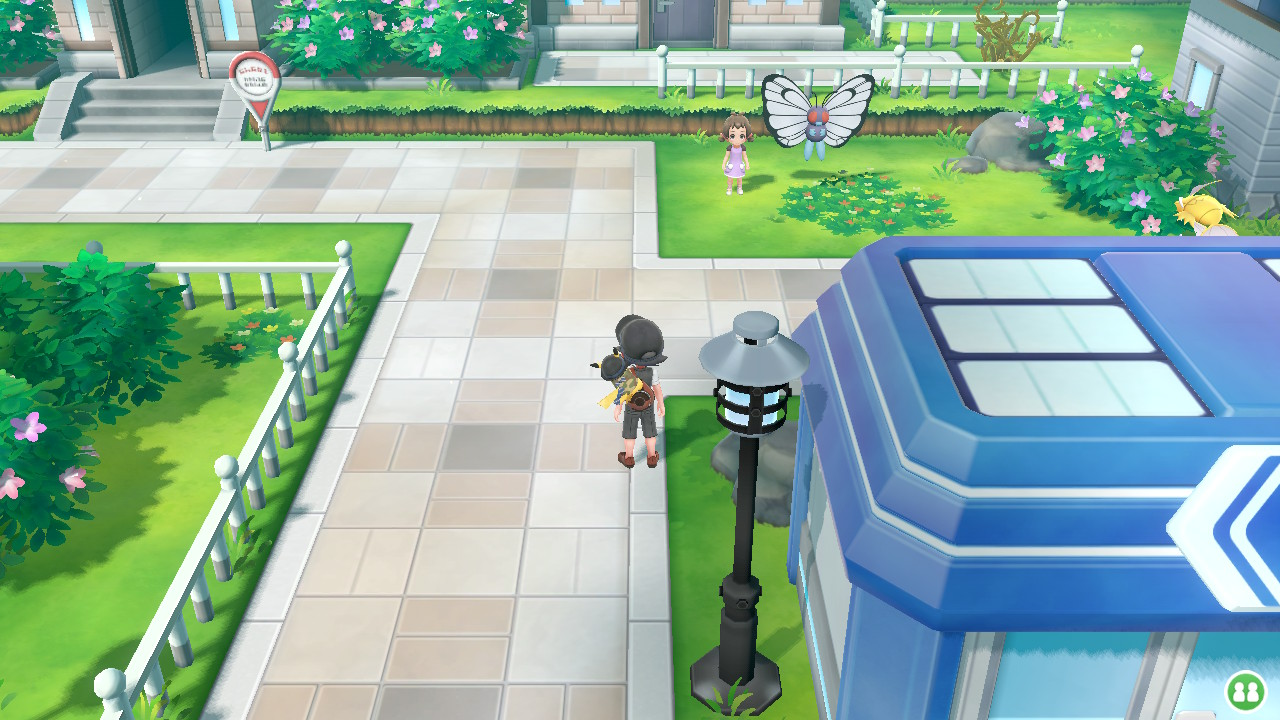Golden: (1172, 182, 1241, 236)
